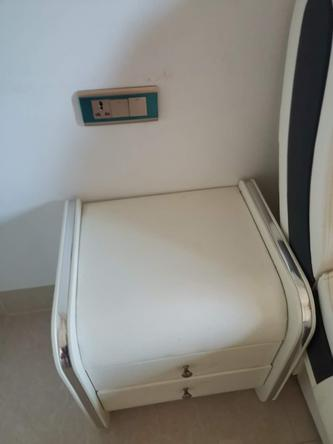switch: (128, 95, 150, 119), (108, 97, 130, 119)
